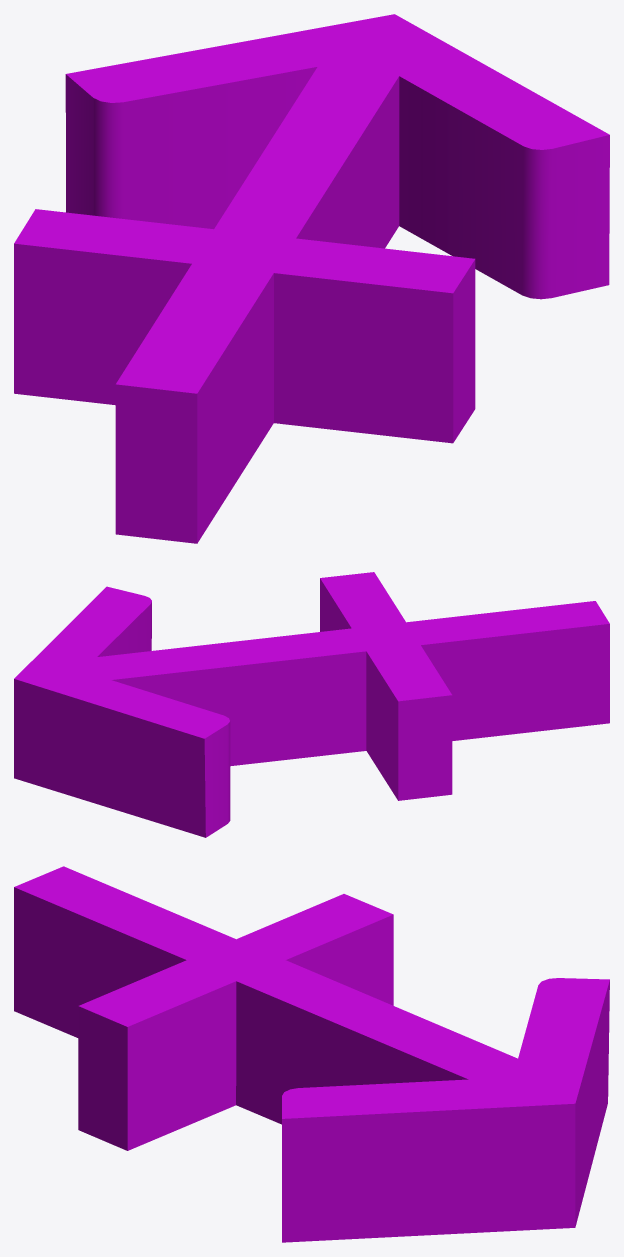
Rendered from Sagitarius.fbx.
3 renders of one model, top to bottom at view 1: azimuth 30°, elevation 25°; view 2: azimuth 150°, elevation 25°; view 3: azimuth 270°, elevation 25°, orthographic. The views are drawn at different scales.
Parts seen in each view (by area): view 1: 9.SAGITTARIUS; view 2: 9.SAGITTARIUS; view 3: 9.SAGITTARIUS.
Boxes of the visible parts, x1=… form: 9.SAGITTARIUS: x1=14, y1=14, x2=609, y2=543; 9.SAGITTARIUS: x1=14, y1=572, x2=609, y2=837; 9.SAGITTARIUS: x1=14, y1=866, x2=609, y2=1242.
Bounding box in the file's own units: 156 × 35.7 × 155.
